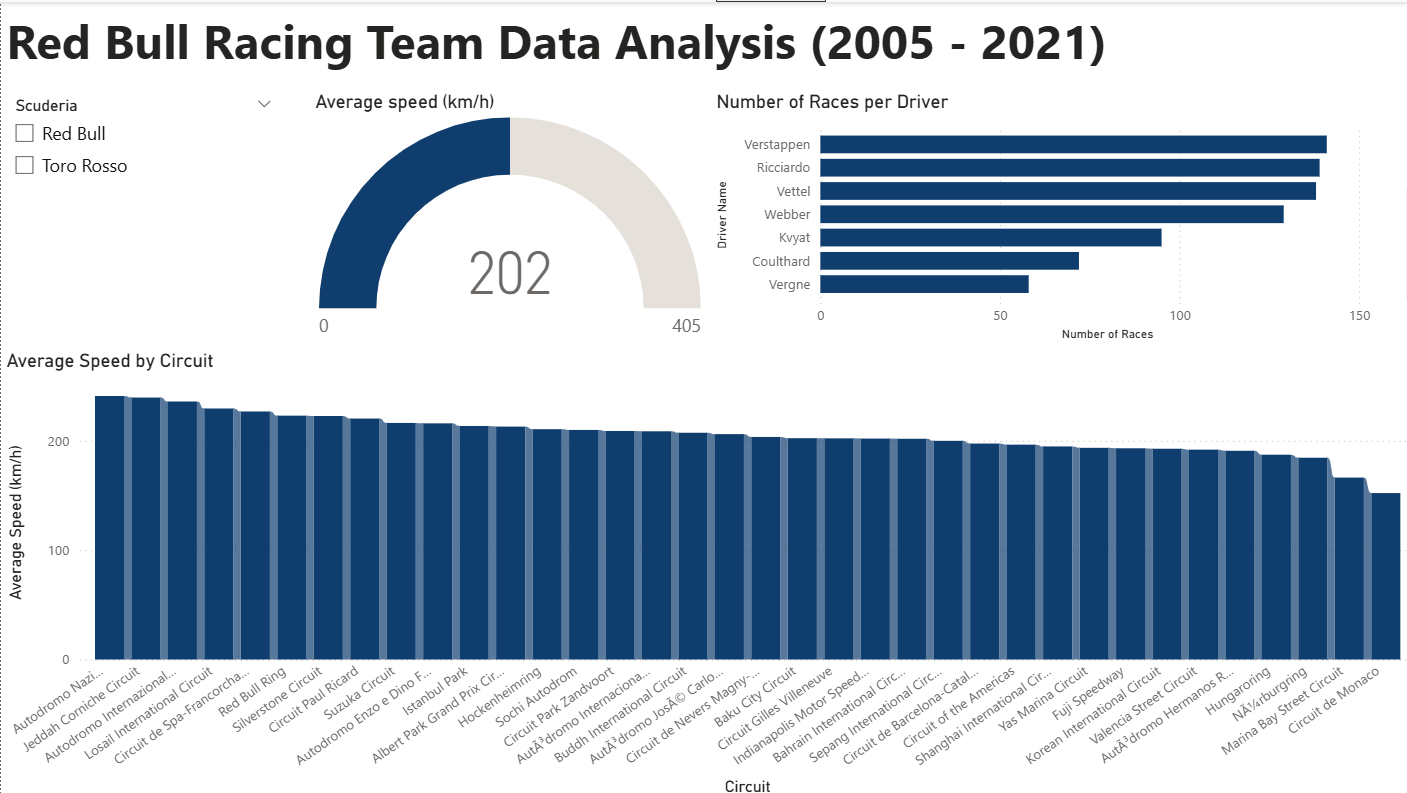

What the dashboard file says about the page in this screenshot:
{"tool":"powerbi","page":{"name":"Overview","canvas":[1280,720],"ordinal":0},"visuals":[{"type":"slicer","fields":{"Values":["data.constructor_name"]},"box":[0,79.8,256.6,232.3],"z":0},{"type":"columnChart","title":"Average Speed by Circuit","fields":{"Y":["data.fastestlapspeed"],"Category":["data.circuit_name"]},"box":[0,312.9,1280.3,407.5],"z":1000},{"type":"clusteredBarChart","title":"Number of Races per Driver","fields":{"Category":["data.drivers_surname"],"Y":["data.drivers_surname"]},"box":[640,80.5,640,230.5],"z":2000},{"type":"gauge","title":"Average speed (km/h)","fields":{"Y":["data.fastestlapspeed"]},"box":[278.6,80.5,361.4,232.9],"z":3000},{"type":"textbox","box":[0,0,1076.7,80.2],"z":4000}]}

Visuals, with their boxes in screenshot pixels (x1, y1, x2, y2), scaled from the page's 1280x720 canvas onto the 1407x793 screenshot:
slicer - data.constructor_name: bbox=[0, 88, 282, 344]
"Average Speed by Circuit" columnChart: bbox=[0, 345, 1406, 792]
"Number of Races per Driver" clusteredBarChart: bbox=[704, 89, 1406, 343]
"Average speed (km/h)" gauge: bbox=[306, 89, 704, 345]
textbox: bbox=[0, 0, 1184, 88]
